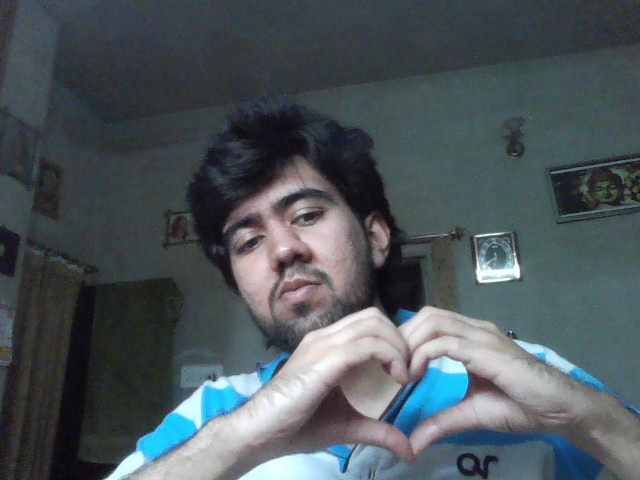Love: (267, 306, 558, 464)
